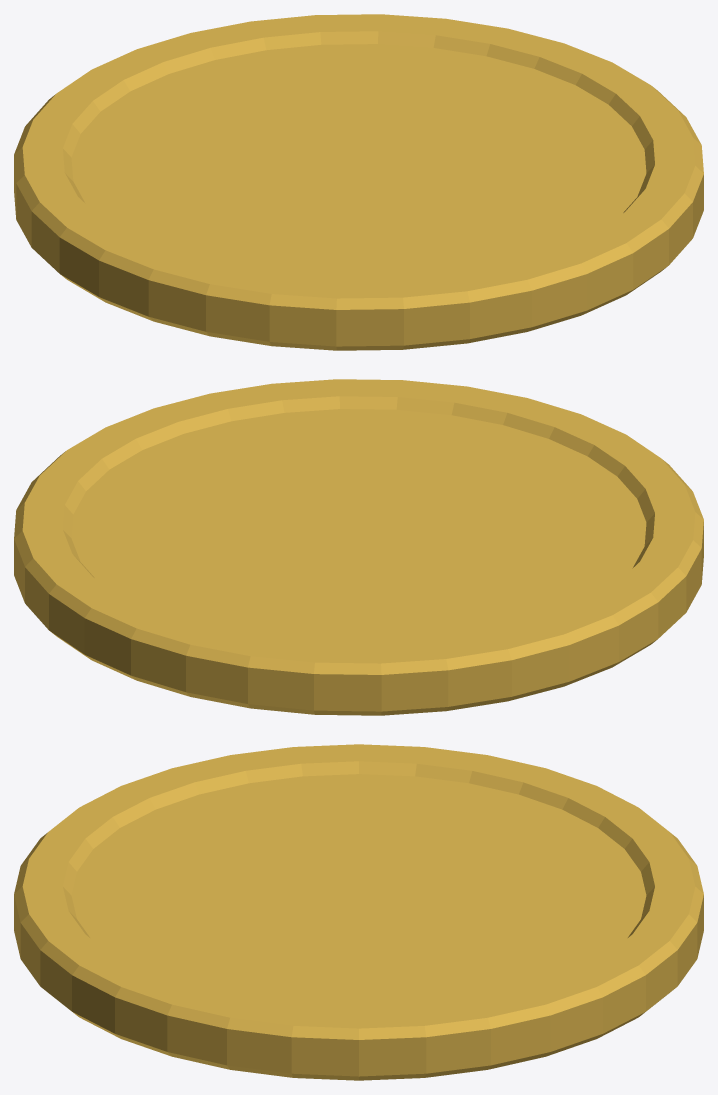
File: coin.glb
3 views of the same model, one above another, from view 1: azimuth 30°, elevation 25°; view 2: azimuth 150°, elevation 25°; view 3: azimuth 270°, elevation 25° (orthographic).
Parts seen in each view (by area): view 1: Gold coin with recessed field; view 2: Gold coin with recessed field; view 3: Gold coin with recessed field.
Boxes of the visible parts, x1,y1,x2,y2 form: Gold coin with recessed field: (14, 14, 703, 350); Gold coin with recessed field: (14, 379, 703, 715); Gold coin with recessed field: (14, 744, 703, 1080).
Bounding box in the file's own units: 0.024 × 0.002 × 0.024.
